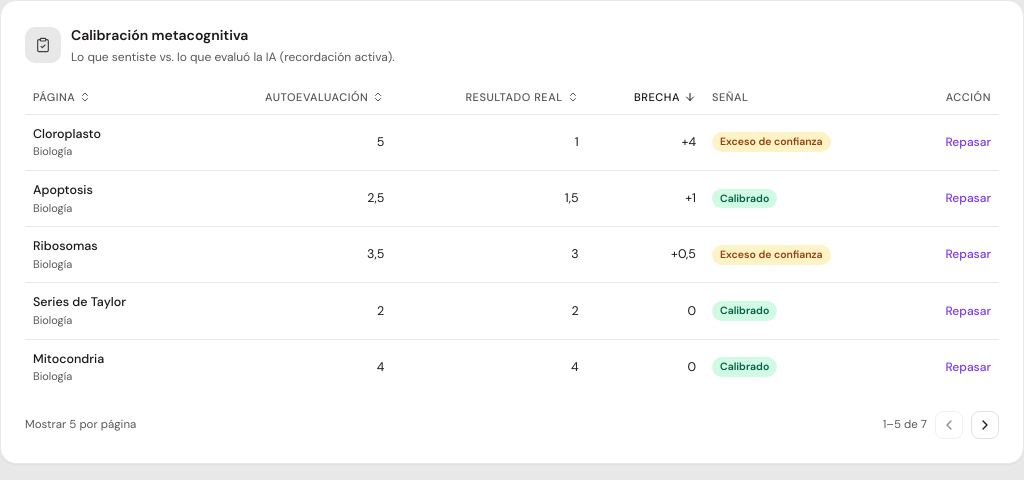
Test: CalibrationTable › stops at the last page, which holds the remainder
Click the button named "Página siguiente": (985, 425) x1=971 y1=411 x2=999 y2=439
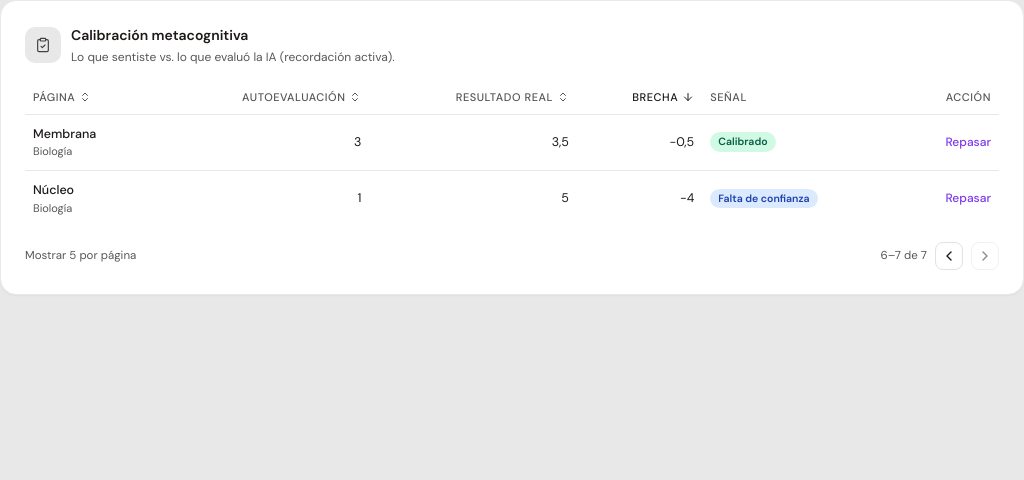
expect the text "6–7 de 7" is shown: met, box x1=881 y1=247 x2=927 y2=265
expect the button named "Página siguiente" is disabled: met, box x1=971 y1=242 x2=999 y2=270
